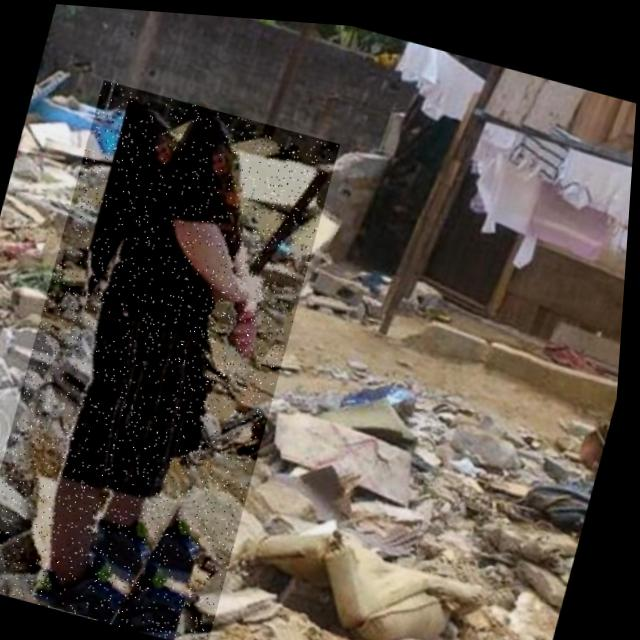Person in Rubble: (0, 73, 344, 640)
